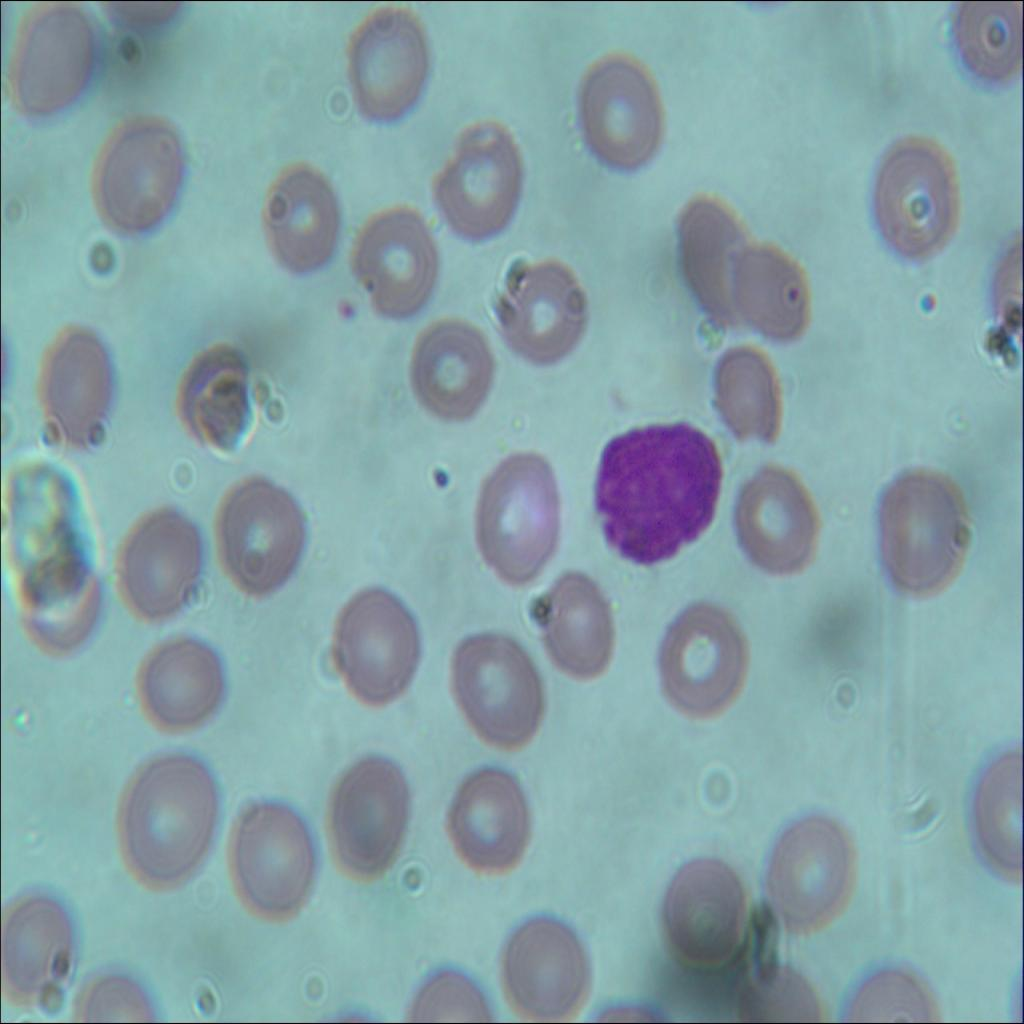Eritrosit: (113, 745, 226, 894), (875, 461, 973, 607), (868, 132, 969, 264), (204, 470, 304, 602), (731, 458, 831, 588), (89, 109, 189, 238), (328, 584, 426, 714), (224, 791, 318, 924), (4, 0, 98, 131), (468, 445, 556, 578), (766, 809, 852, 945), (658, 594, 749, 719), (451, 628, 543, 751), (673, 195, 755, 329), (530, 568, 620, 690), (40, 318, 118, 457), (328, 752, 414, 878), (449, 757, 535, 882), (573, 51, 664, 168), (726, 234, 818, 348), (501, 909, 593, 1023), (14, 550, 106, 664), (343, 10, 434, 124), (110, 508, 204, 618), (130, 635, 230, 737), (660, 854, 746, 972), (348, 202, 436, 316), (255, 159, 339, 277), (503, 257, 588, 370), (176, 338, 258, 455), (406, 318, 496, 421), (711, 342, 788, 452), (0, 888, 75, 995), (952, 0, 1017, 84)
Limfoblast: (591, 412, 724, 575)
Platelet: (424, 464, 458, 506), (334, 291, 362, 335), (915, 275, 941, 312)
